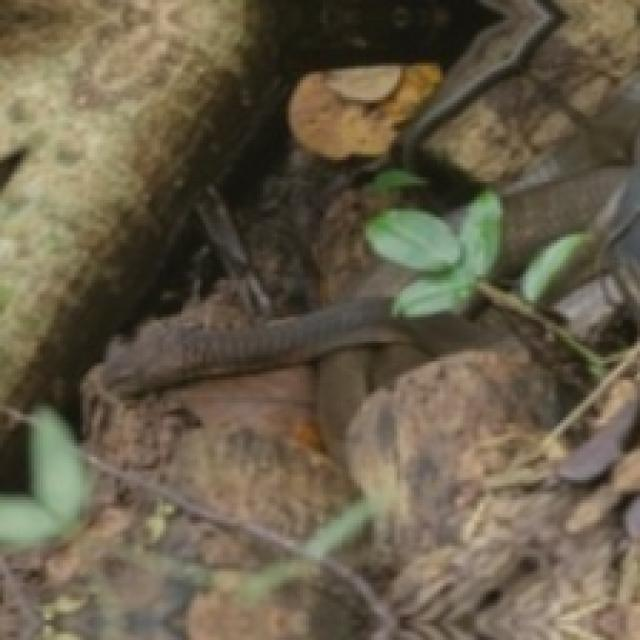king cobra: (110, 261, 492, 463), (498, 109, 632, 278)
